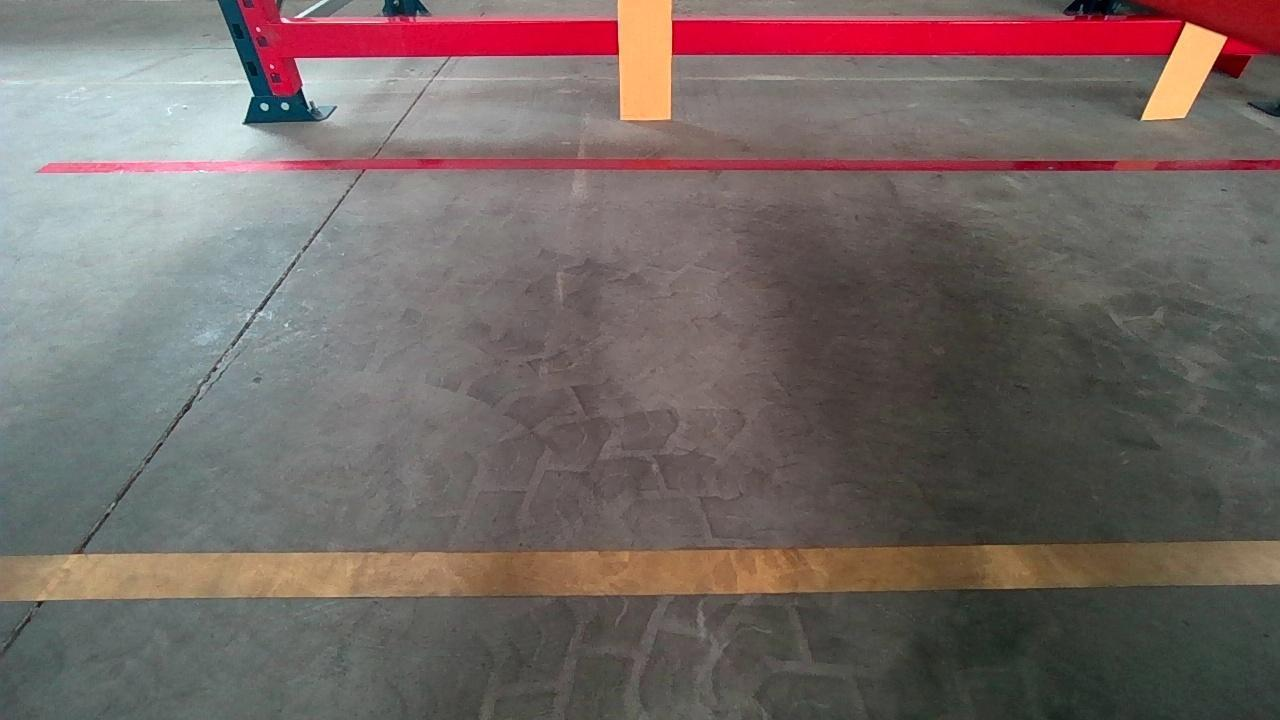h_rack: (284, 6, 1155, 67)
orange_strip: (1143, 20, 1230, 117), (618, 0, 673, 119)
red_line: (52, 156, 1261, 179)
yellow_line: (2, 538, 1275, 603)
